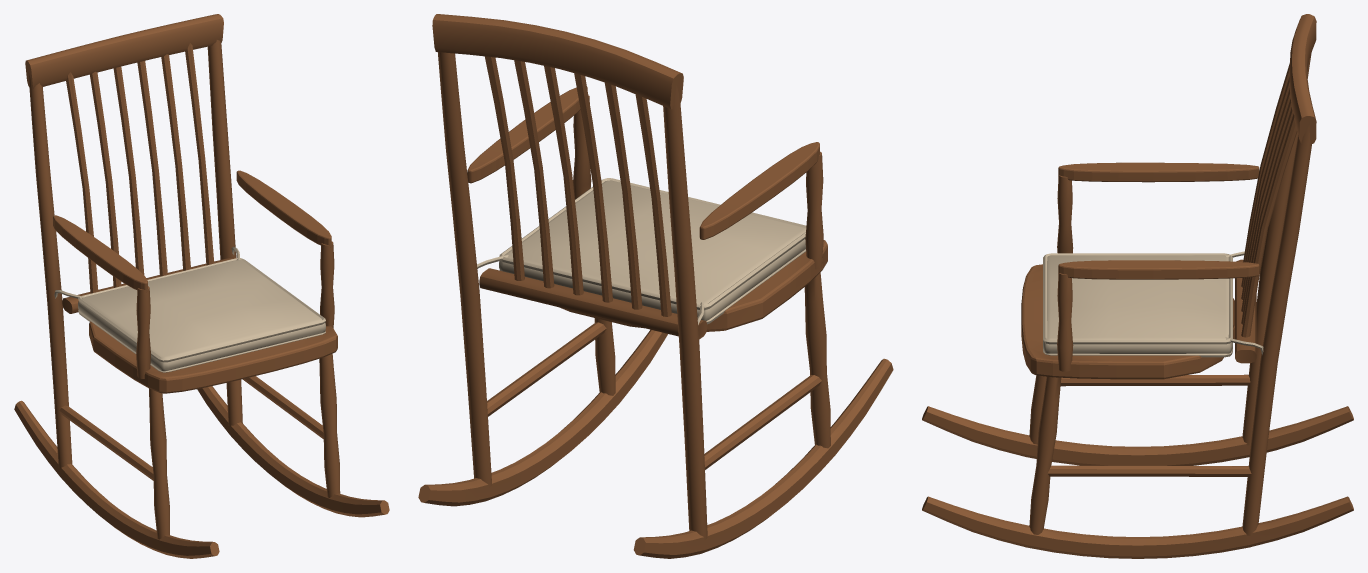
The model's file is rockingChair.glb.
3 renders of one model, left to right at view 1: azimuth 30°, elevation 25°; view 2: azimuth 150°, elevation 25°; view 3: azimuth 270°, elevation 25°, orthographic. The views are drawn at different scales.
Parts seen in each view (by area): view 1: chair; view 2: chair; view 3: chair.
Boxes of the visible parts, x1=… form: chair: x1=14, y1=14, x2=389, y2=558; chair: x1=418, y1=14, x2=893, y2=558; chair: x1=922, y1=14, x2=1353, y2=558.
Bounding box in the file's own units: 0.5199 × 1.03 × 0.8893.
